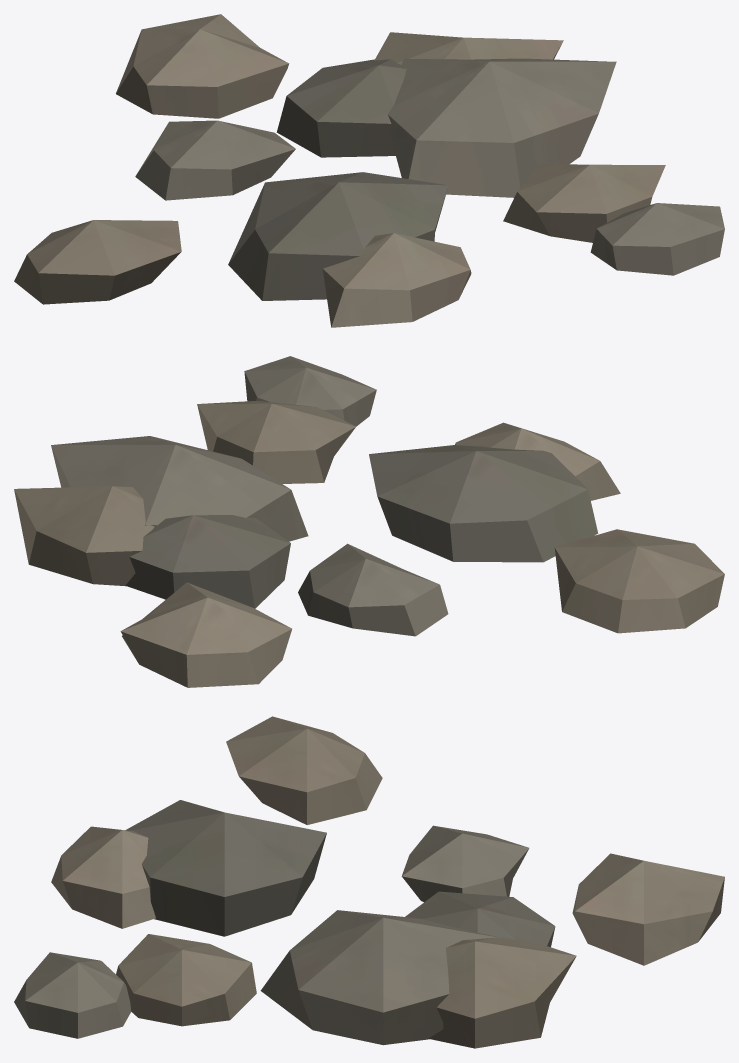
Rendered from pebbles_01.glb.
3 renders of one model, top to bottom at view 1: azimuth 30°, elevation 25°; view 2: azimuth 150°, elevation 25°; view 3: azimuth 270°, elevation 25°, orthographic. The views are drawn at different scales.
Parts seen in each view (by area): view 1: pebbles_01; view 2: pebbles_01; view 3: pebbles_01.
Boxes of the visible parts, x1=… form: pebbles_01: x1=14, y1=14, x2=724, y2=327; pebbles_01: x1=14, y1=356, x2=724, y2=687; pebbles_01: x1=14, y1=716, x2=724, y2=1048.
Size of the model in its own units: 0.746 by 0.1029 by 0.7148.
4 materials, 4 textured.
